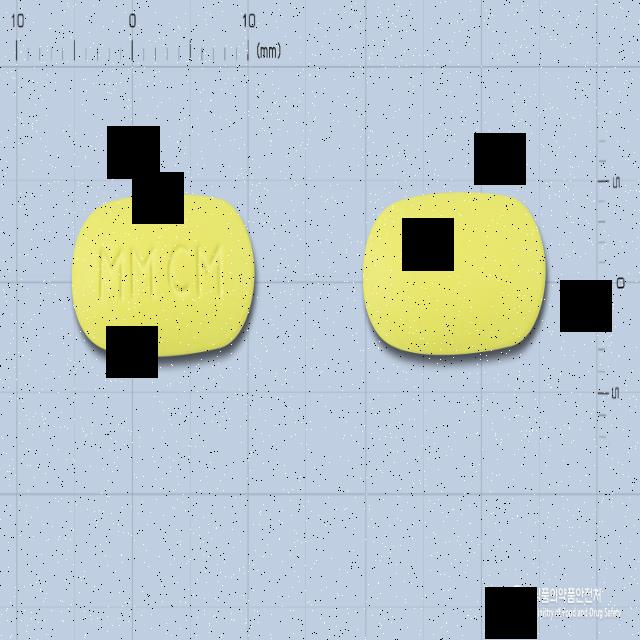Claricin - 500mg: (69, 188, 261, 362)
